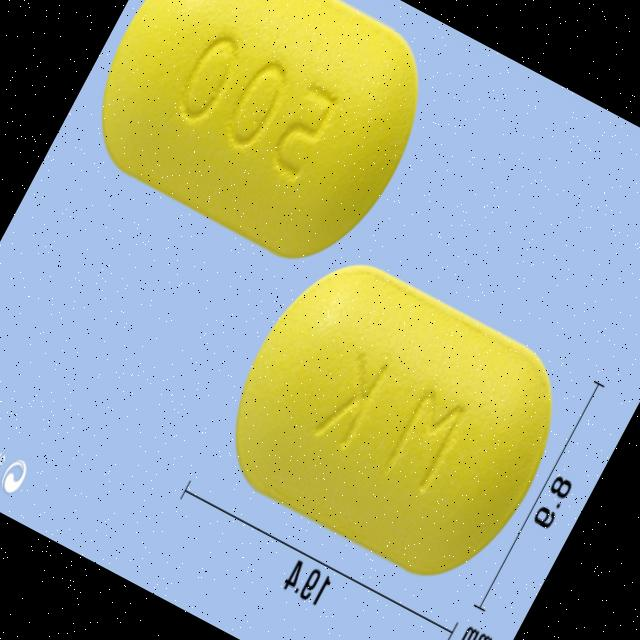Craycin: (199, 233, 588, 602), (65, 0, 452, 282)
